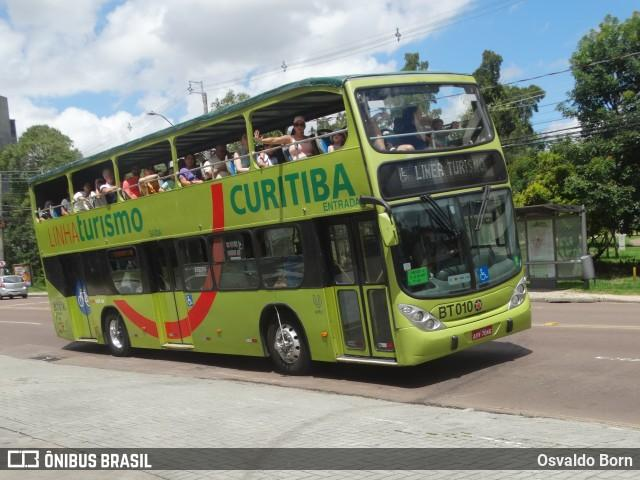LINER TURISMO: (409, 153, 489, 184)
